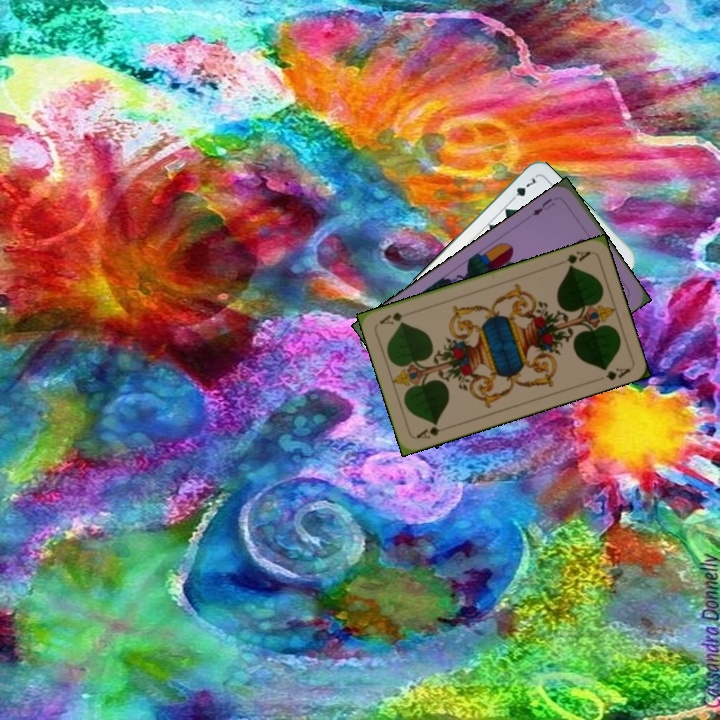EU: (528, 194, 558, 218)
G7: (506, 173, 540, 205)
GA: (562, 247, 593, 270), (412, 419, 443, 442)
